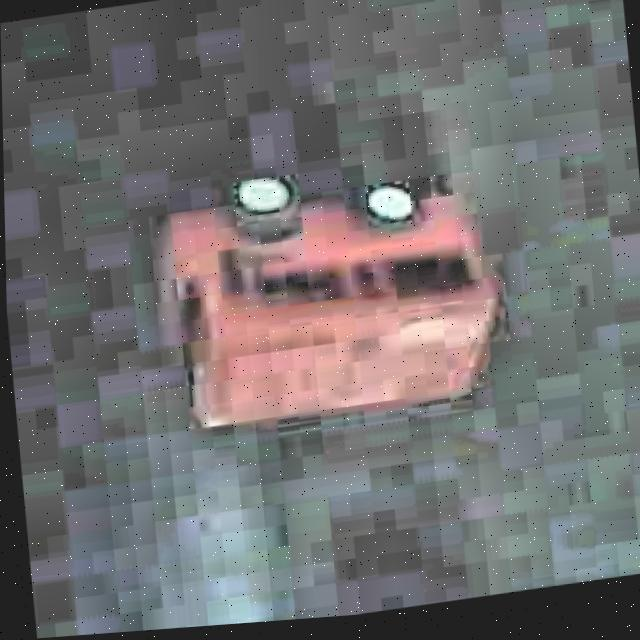bus: (139, 117, 522, 456)
